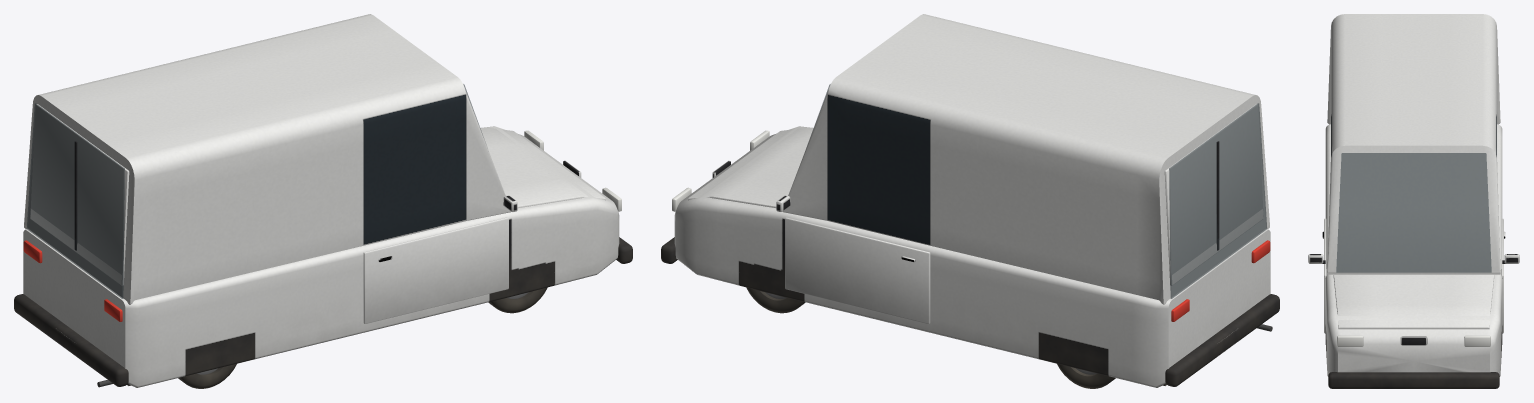
Rendered from van-furgao.glb.
3 views of the same model, side by side, from view 1: azimuth 30°, elevation 25°; view 2: azimuth 150°, elevation 25°; view 3: azimuth 270°, elevation 25° (orthographic). The views are drawn at different scales.
Parts seen in each view (by area): view 1: body, glass_rear, trunk, door_fr, hood, bumper_rear, wheel_fr_tire, wheel_rr_tire; view 2: body, glass_rear, trunk, door_fl, hood, bumper_rear, wheel_fl_tire, wheel_rl_tire; view 3: body, glass_windshield, hood, bumper_front, headlight_left, headlight_right, door_fl, door_fr.
Part boxes in pixels (x1,y1,x2,y2): body: [23, 14, 619, 387]; glass_rear: [26, 103, 124, 298]; trunk: [30, 104, 129, 285]; door_fr: [363, 217, 508, 323]; hood: [480, 127, 605, 207]; bumper_rear: [14, 294, 128, 386]; wheel_fr_tire: [488, 287, 547, 313]; wheel_rr_tire: [178, 363, 236, 388]; body: [674, 14, 1272, 387]; glass_rear: [1169, 103, 1267, 298]; trunk: [1164, 104, 1263, 285]; door_fl: [785, 217, 930, 323]; hood: [688, 127, 813, 207]; bumper_rear: [1165, 294, 1279, 386]; wheel_fl_tire: [746, 287, 805, 313]; wheel_rl_tire: [1057, 363, 1115, 388]; body: [1308, 14, 1519, 376]; glass_windshield: [1336, 153, 1491, 272]; hood: [1333, 274, 1494, 329]; bumper_front: [1328, 372, 1499, 388]; headlight_left: [1464, 335, 1490, 346]; headlight_right: [1337, 335, 1363, 346]; door_fl: [1501, 218, 1505, 333]; door_fr: [1322, 218, 1326, 333].
Size of what is drawn, in the model's own units: 5.54 by 2.45 by 2.39.
Materials: 6 (5 with a texture image).
